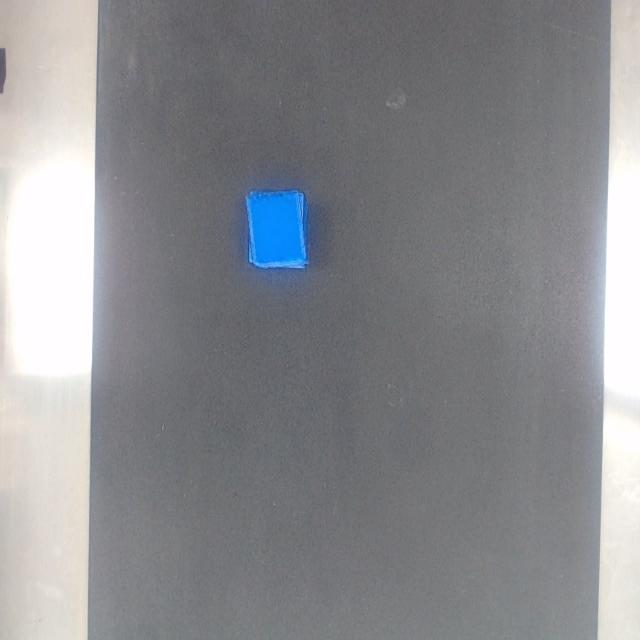Azul: (245, 191, 309, 268)
